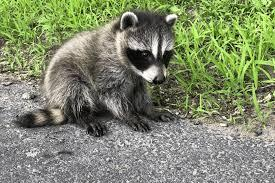raccoon: (3, 0, 192, 144)
